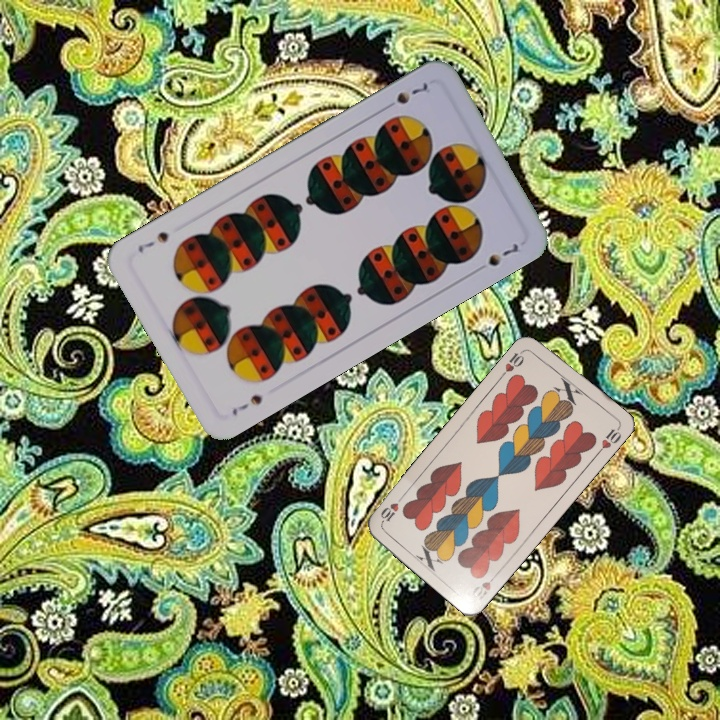H10: (468, 569, 500, 605), (497, 345, 528, 379)
S7: (379, 78, 431, 113), (227, 390, 265, 419)
